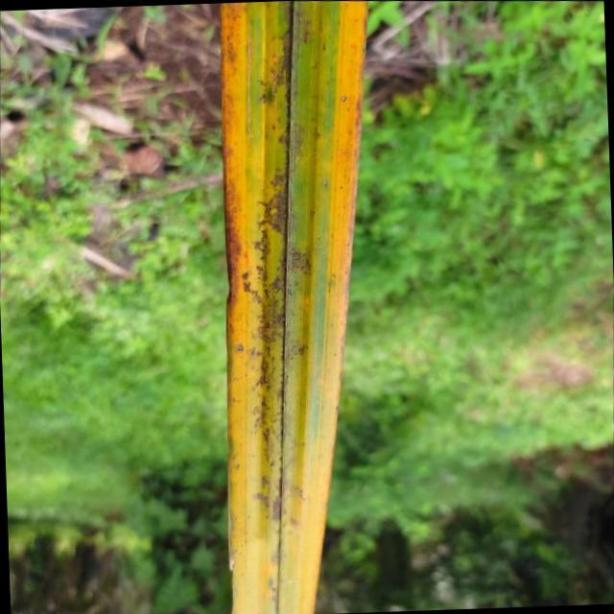Megnesium: (214, 7, 368, 608)
